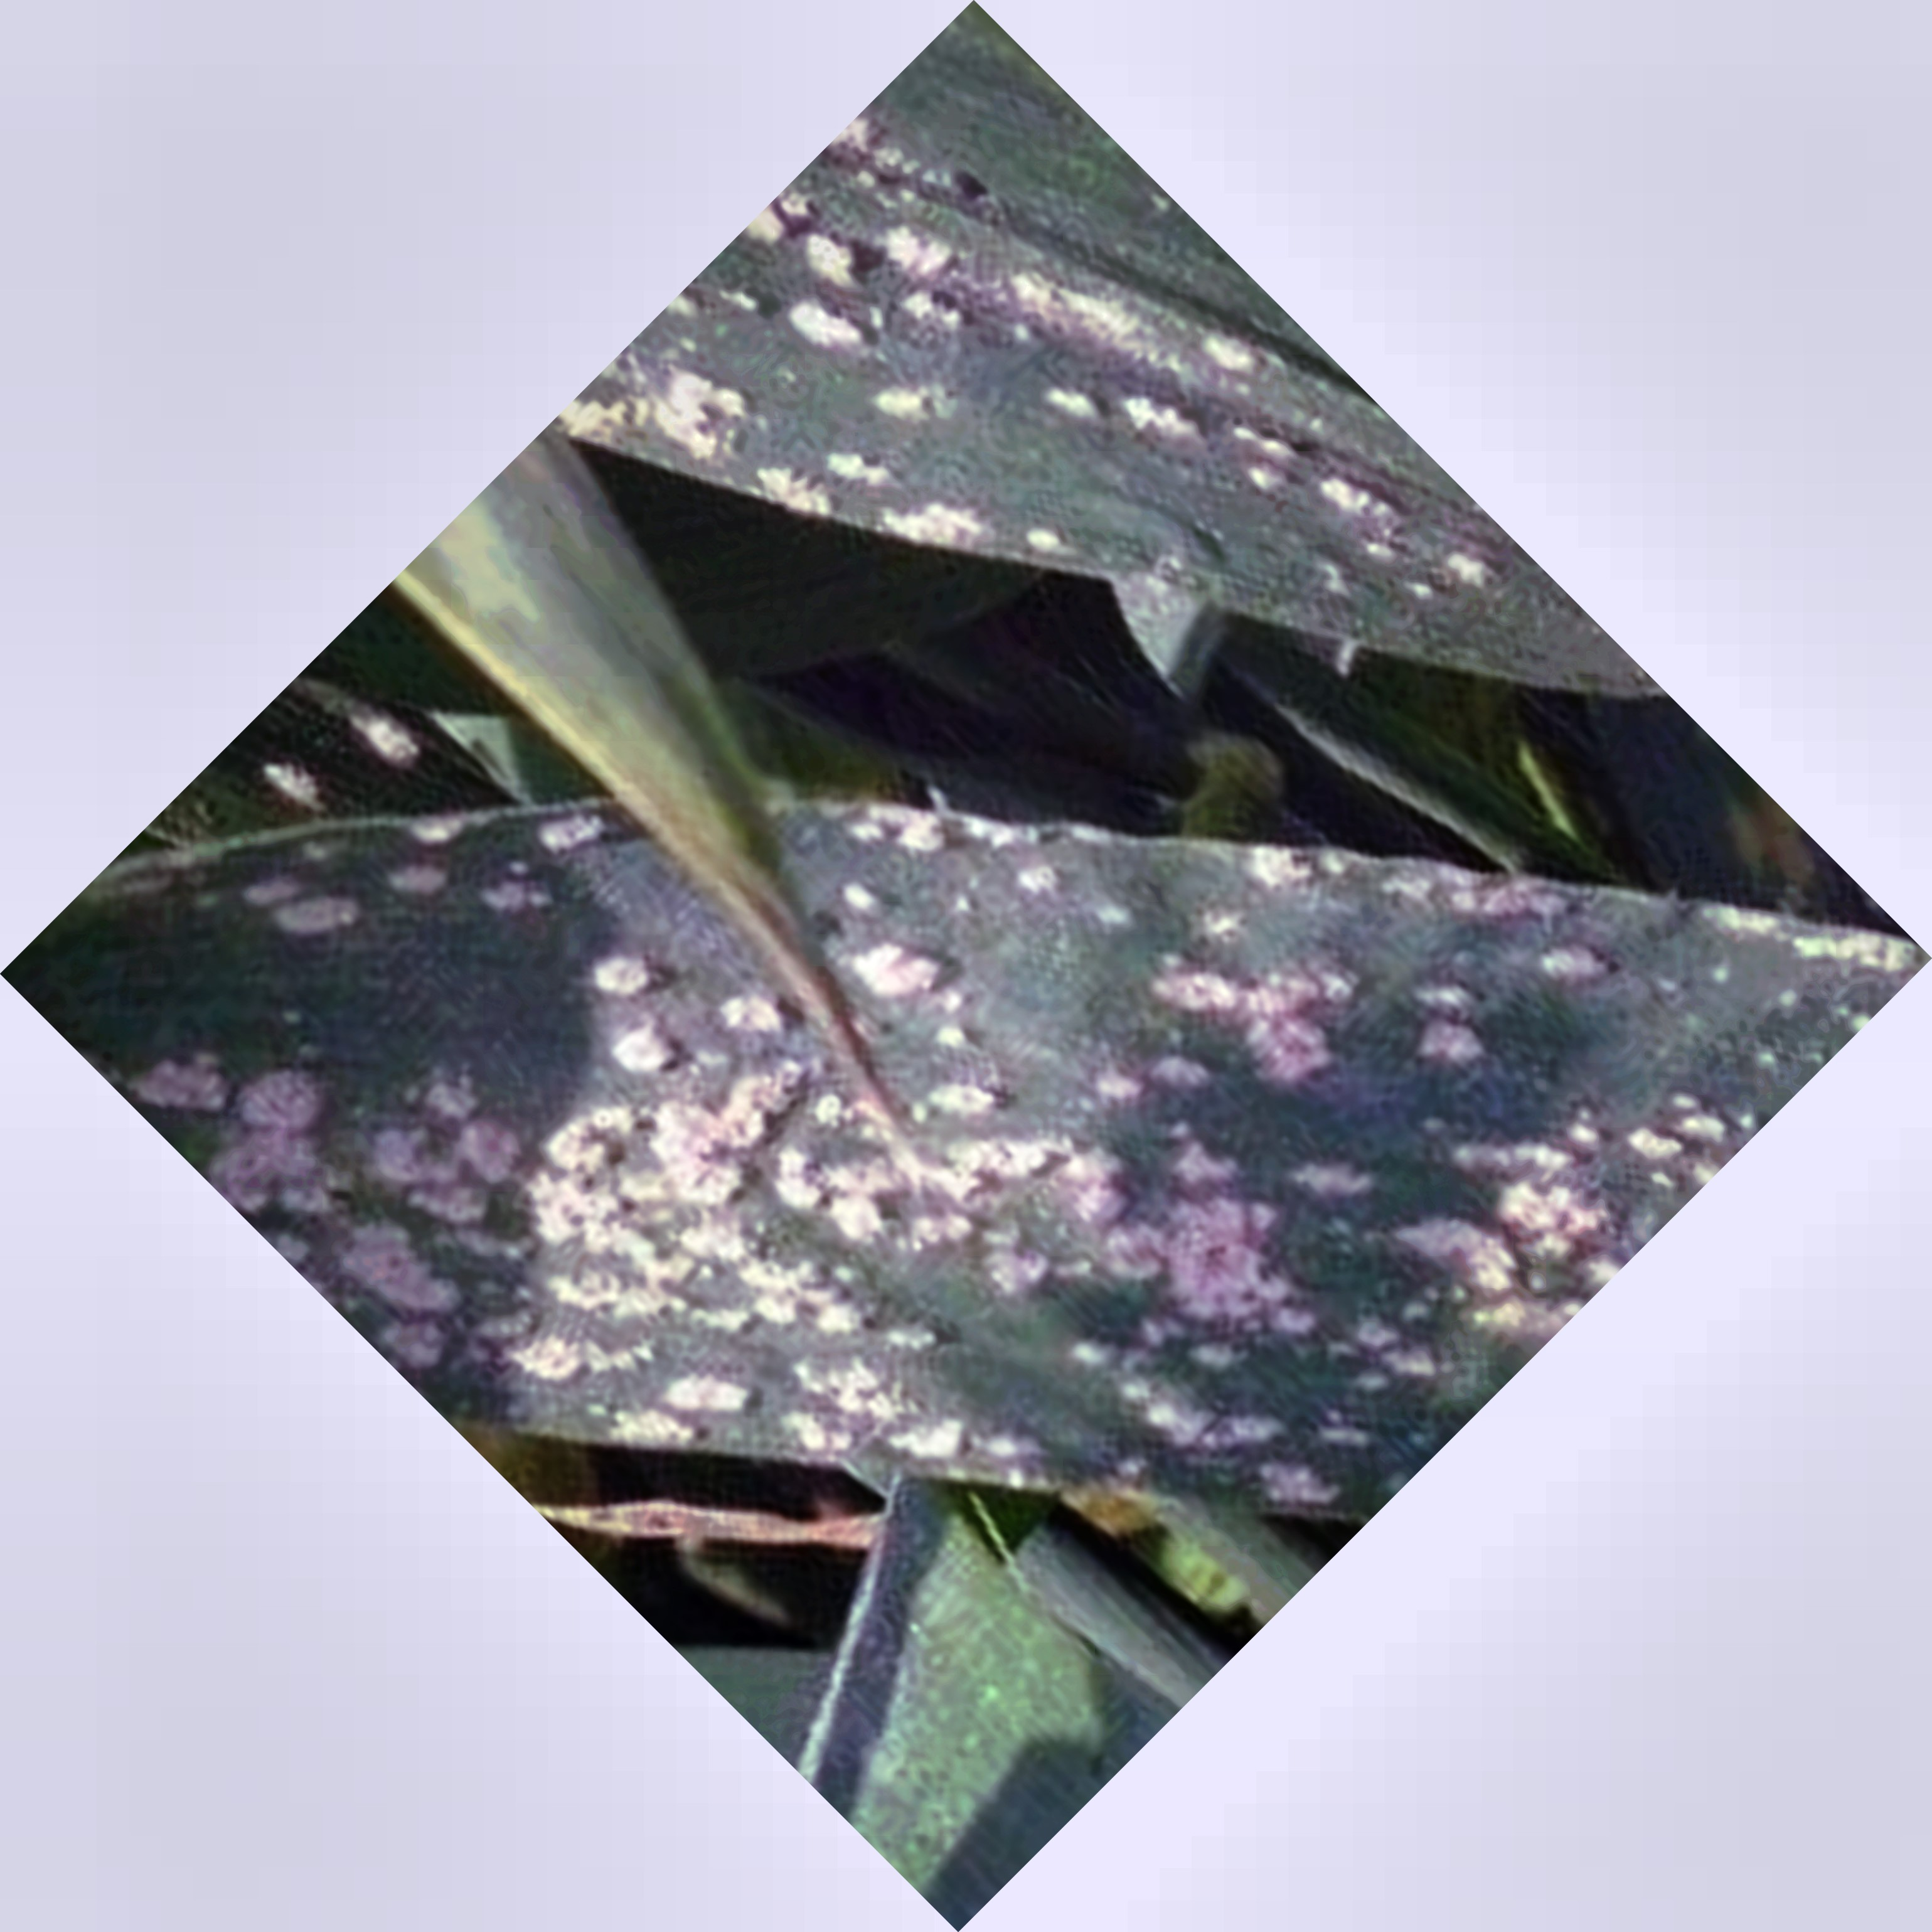Powdery Mildew: (366, 855, 1686, 1474)
